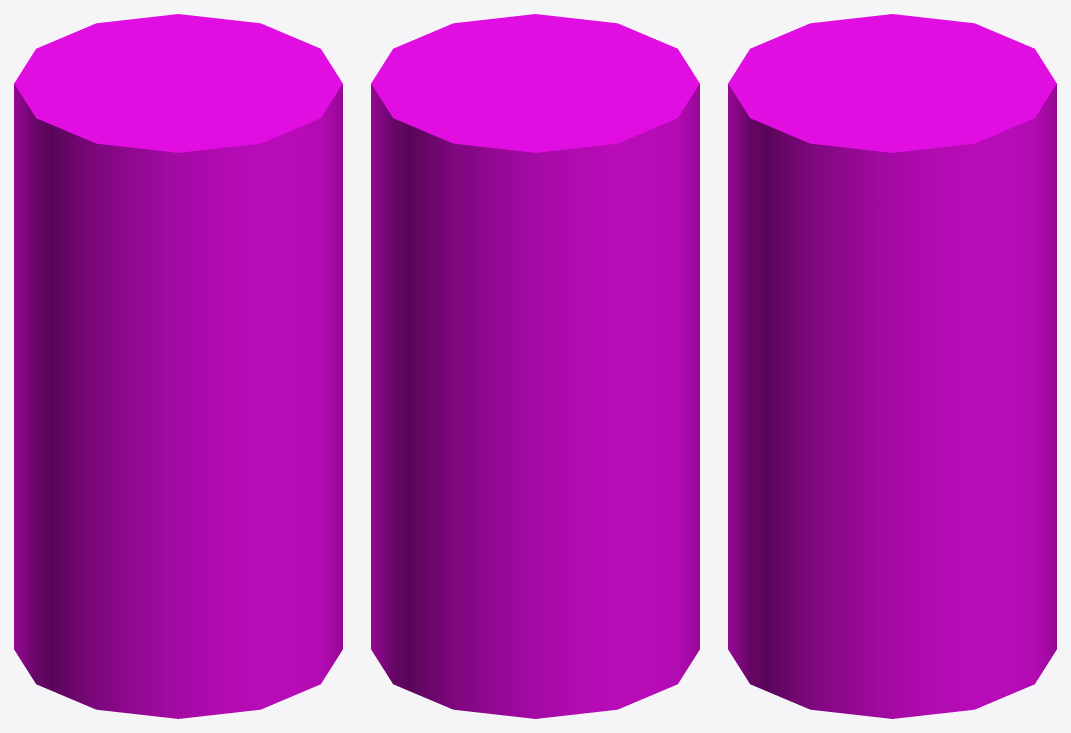
File: iris-water.collision.glb
3 views of the same model, side by side, from view 1: azimuth 30°, elevation 25°; view 2: azimuth 150°, elevation 25°; view 3: azimuth 270°, elevation 25° (orthographic).
Parts seen in each view (by area): view 1: iris_water_collision_collision; view 2: iris_water_collision_collision; view 3: iris_water_collision_collision.
Part boxes in pixels (x1,y1,x2,y2): iris_water_collision_collision: (14, 14, 342, 718); iris_water_collision_collision: (371, 14, 699, 718); iris_water_collision_collision: (728, 14, 1056, 718).
Bounding box in the file's own units: 0.5 × 0.95 × 0.5.
